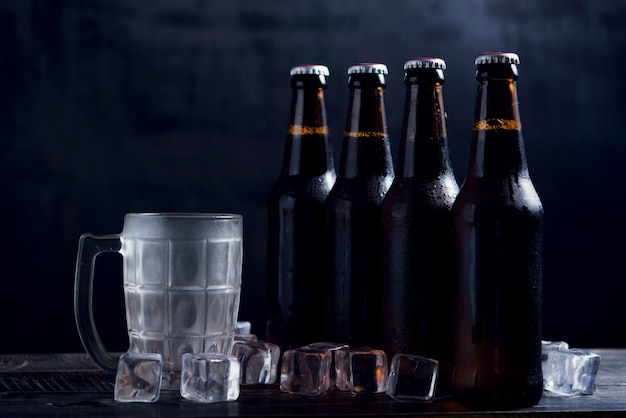alcohol: (453, 52, 547, 407), (392, 56, 470, 407), (270, 66, 352, 374), (336, 61, 401, 379)
